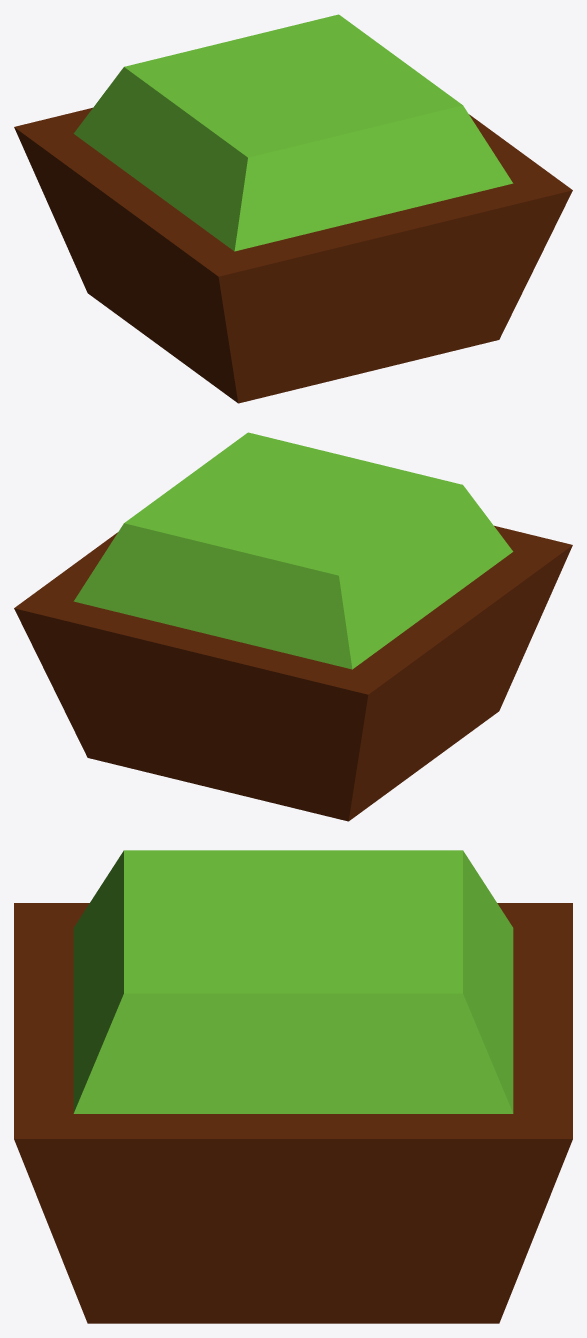
The model's file is Food Bowl 01.FBX.
3 renders of one model, top to bottom at view 1: azimuth 30°, elevation 25°; view 2: azimuth 150°, elevation 25°; view 3: azimuth 270°, elevation 25°, orthographic. The views are drawn at different scales.
Parts seen in each view (by area): view 1: Food Bowl 01; view 2: Food Bowl 01; view 3: Food Bowl 01.
Part boxes in pixels (x1=…): Food Bowl 01: x1=14, y1=14, x2=572, y2=403; Food Bowl 01: x1=14, y1=432, x2=572, y2=821; Food Bowl 01: x1=14, y1=850, x2=572, y2=1323.
Size of the model in its own units: 70.46 by 43.8 by 70.46.
